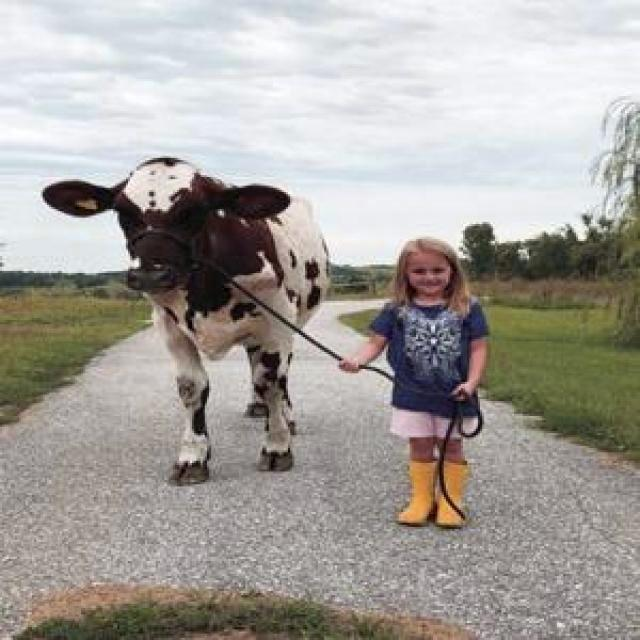cow: (42, 158, 330, 484)
